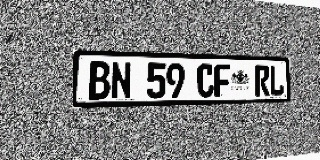5: (147, 63, 166, 99)
9: (167, 63, 185, 98)
B: (88, 61, 110, 100)
C: (197, 64, 214, 98)
F: (214, 64, 230, 97)
L: (270, 65, 284, 96)
N: (111, 62, 131, 99)
R: (255, 65, 269, 96)
